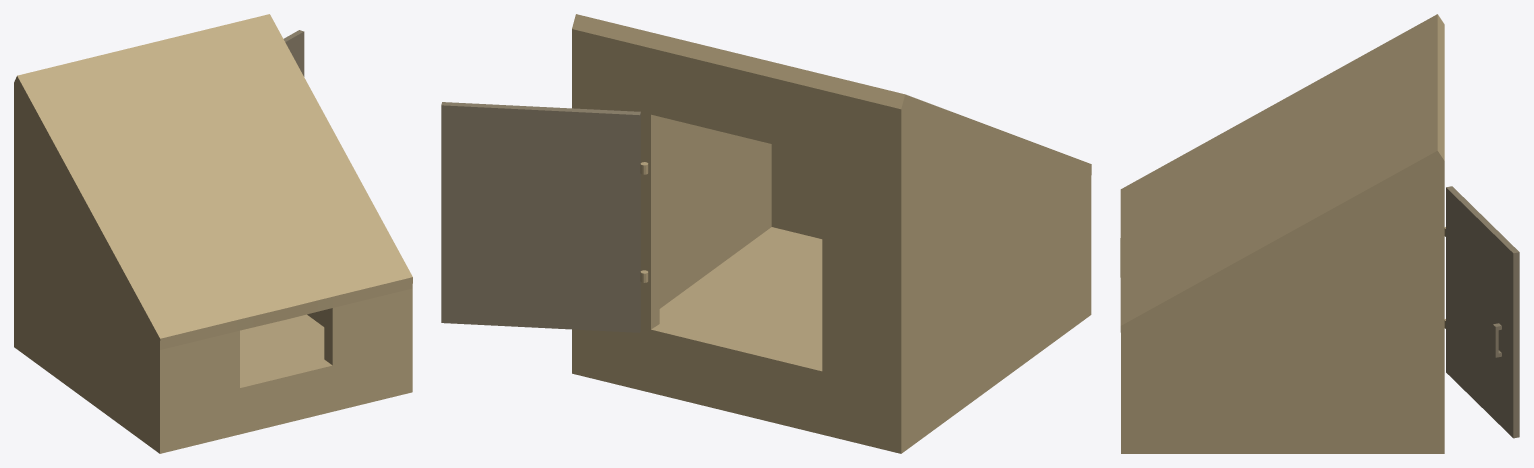
The model's file is box_nest.glb.
The picture shows the model from 3 angles, left to right: view 1: azimuth 30°, elevation 25°; view 2: azimuth 150°, elevation 25°; view 3: azimuth 270°, elevation 25°; orthographic projection. The views are drawn at different scales.
Parts seen in each view (by area): view 1: coop, door; view 2: coop, door; view 3: coop, door.
Boxes of the visible parts, bbox=[...] form: coop: bbox=[14, 14, 412, 453]; door: bbox=[283, 30, 304, 76]; coop: bbox=[572, 14, 1091, 453]; door: bbox=[441, 102, 640, 332]; coop: bbox=[1120, 14, 1445, 453]; door: bbox=[1446, 186, 1519, 438].
Size of the model in its own units: 0.0604 by 0.0492 by 0.0587.
